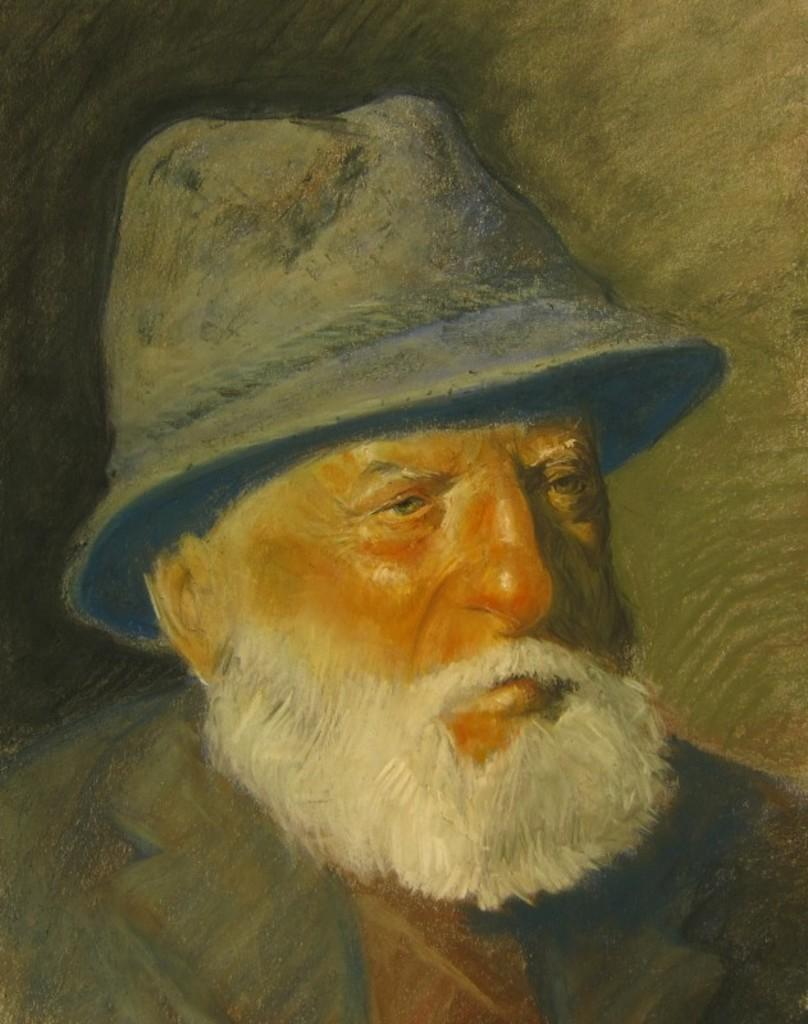Hat: (57, 94, 726, 643)
